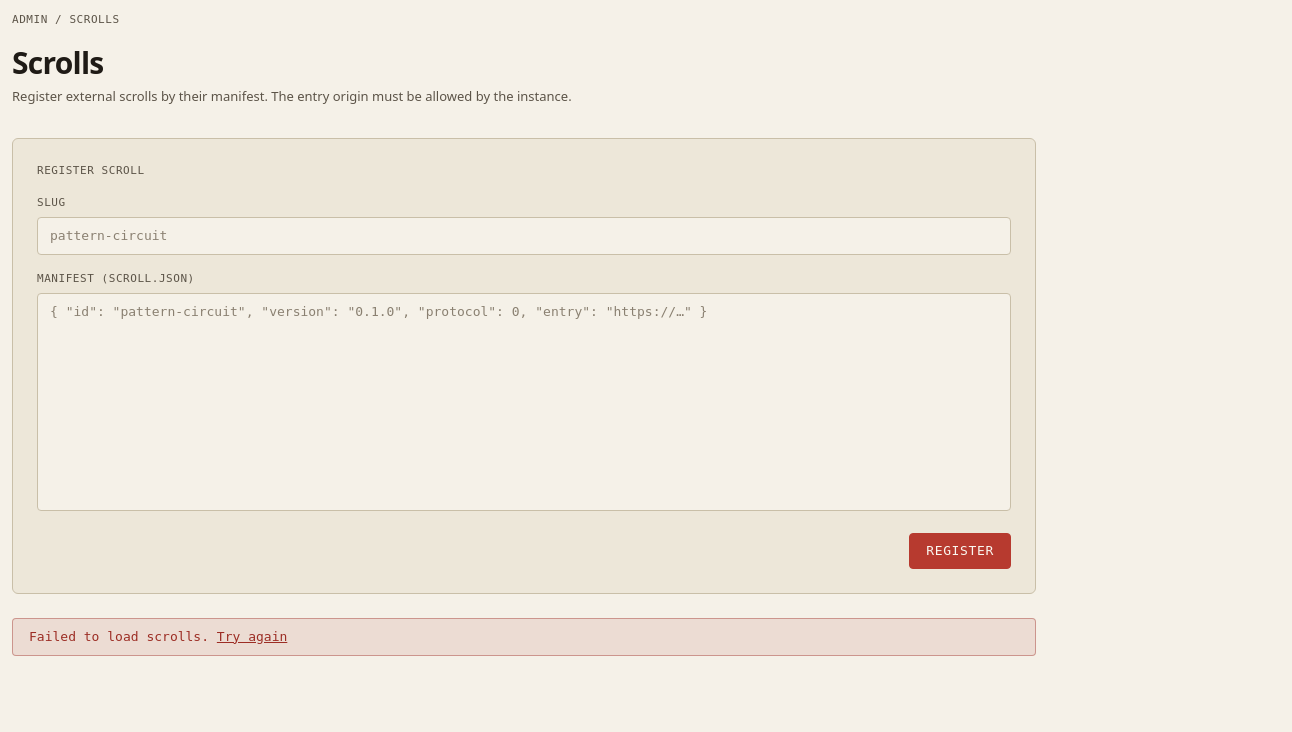
it: AdminScrollsPage — list › offers a retry when the list fails to load
Expected: the text "Failed to load scrolls. Try again" is shown, top-left (12, 618), bottom-right (1036, 656)
Step 1. Click the button "Try again" → (252, 636), box top-left (217, 626), bottom-right (287, 646)
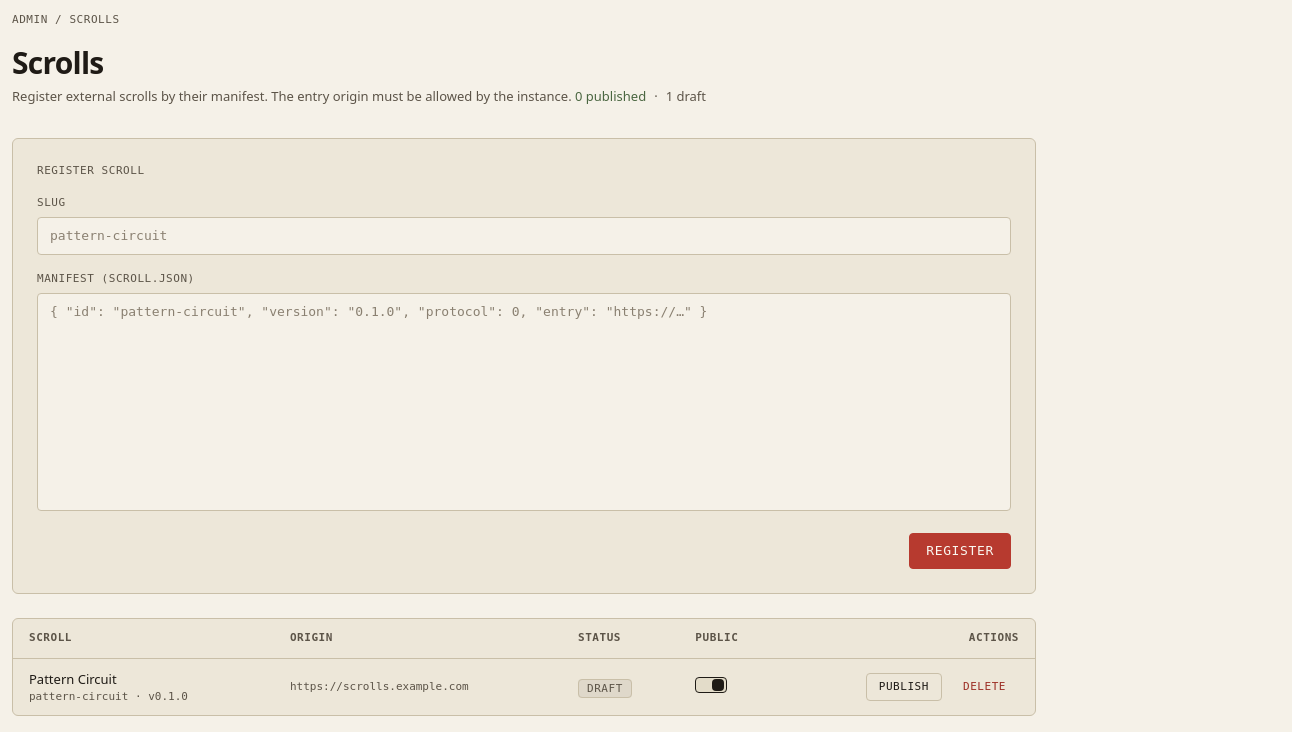
Expected: the table is shown, top-left (13, 618), bottom-right (1035, 714)
